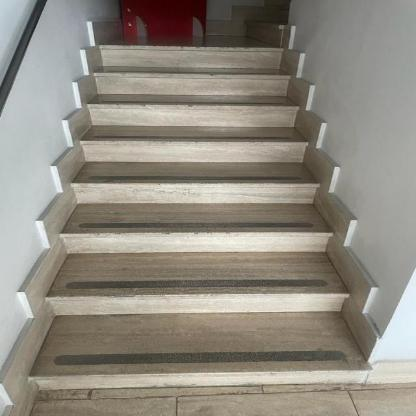stair: (35, 32, 369, 416)
